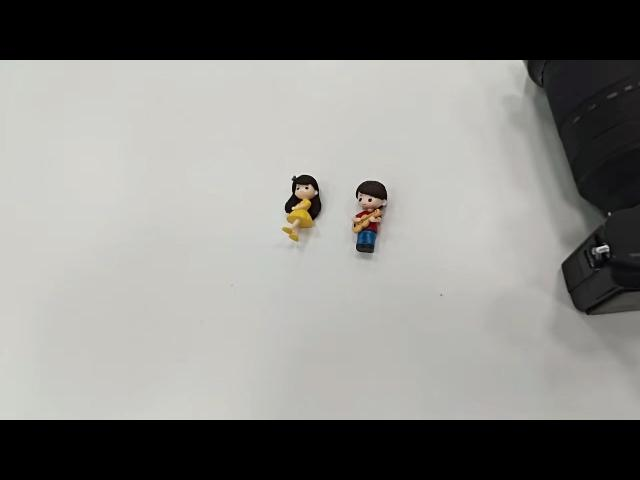man: (348, 175, 388, 255)
woman: (276, 169, 326, 247)
